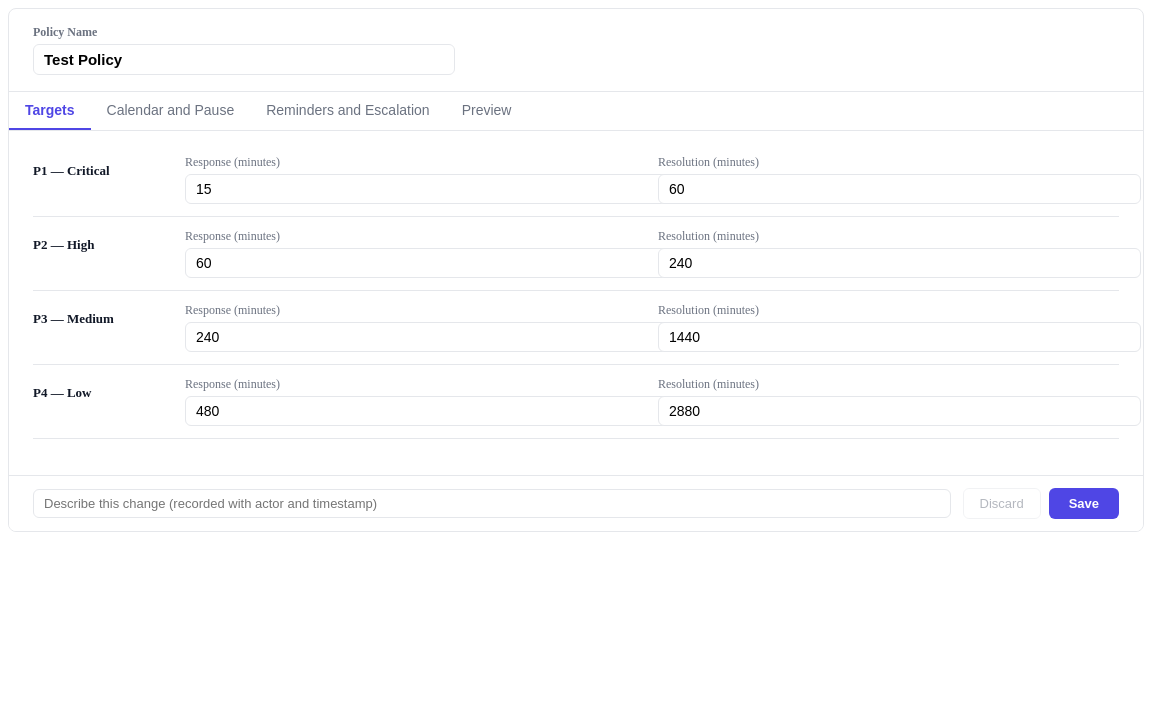
Test: PolicyEditor › conflict banner appears and preserves edits on 409 response
The width and height of the screenshot is (1152, 720).
Replace the text in the field with placeholder "e.g. Default SLA Policy" with "Edited Name" at (244, 60), box x1=33 y1=44 x2=455 y2=75
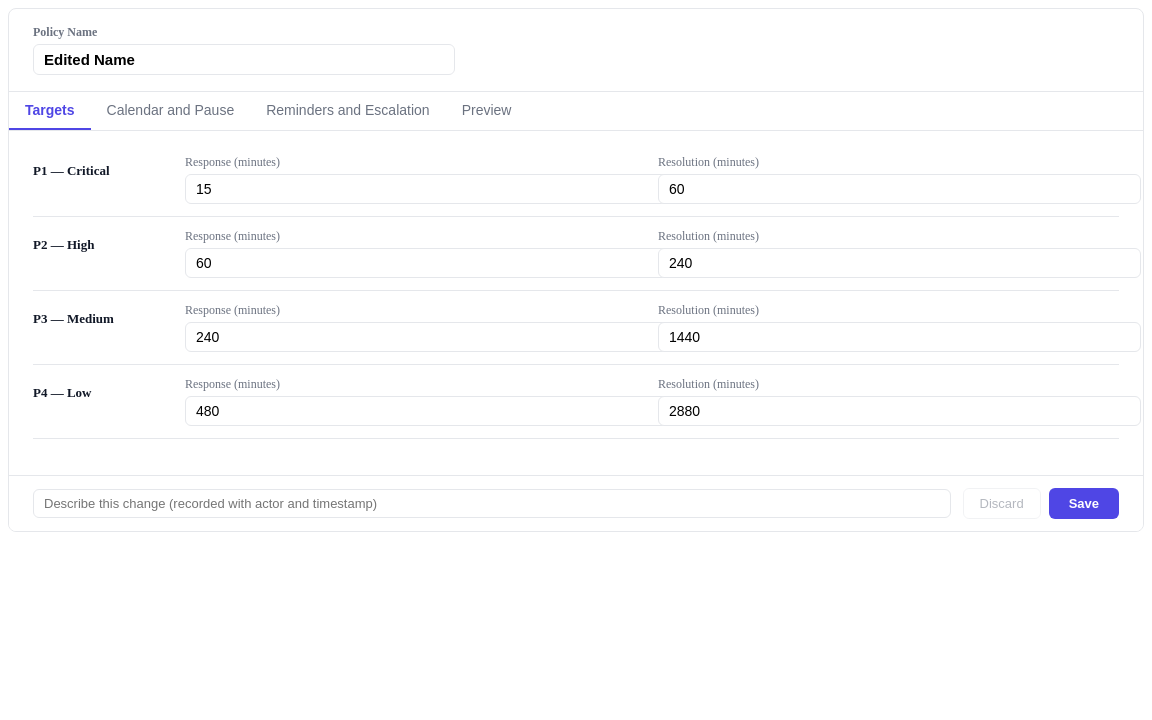
Click the button with aria-label "save policy" at (1084, 504), box x1=1049 y1=488 x2=1119 y2=519
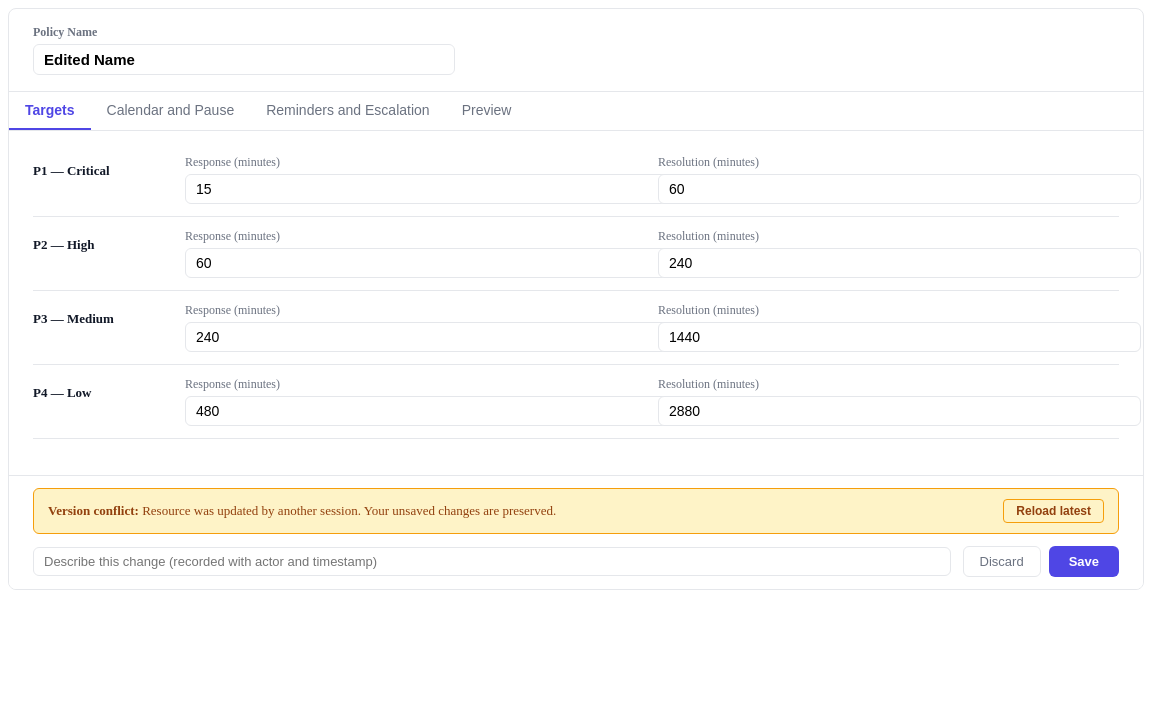
Expected: the text "Version conflict:" is shown, x1=48 y1=503 x2=139 y2=518
Expected: the text "Your unsaved changes are preserved." is shown, x1=361 y1=503 x2=556 y2=518
